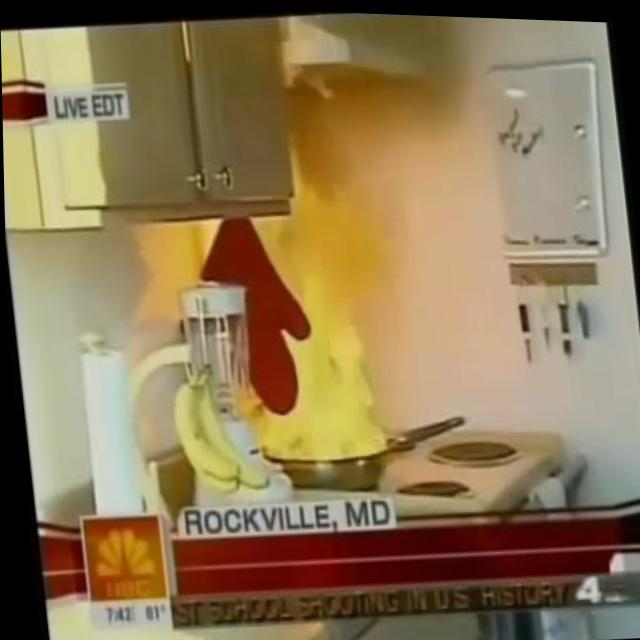fire: (203, 192, 405, 470)
